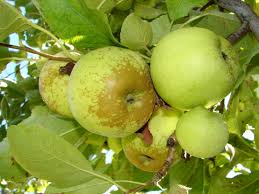apple: (157, 32, 243, 108), (176, 111, 233, 157)
damaged_apple: (69, 52, 151, 135), (114, 105, 190, 174), (38, 51, 92, 121)
